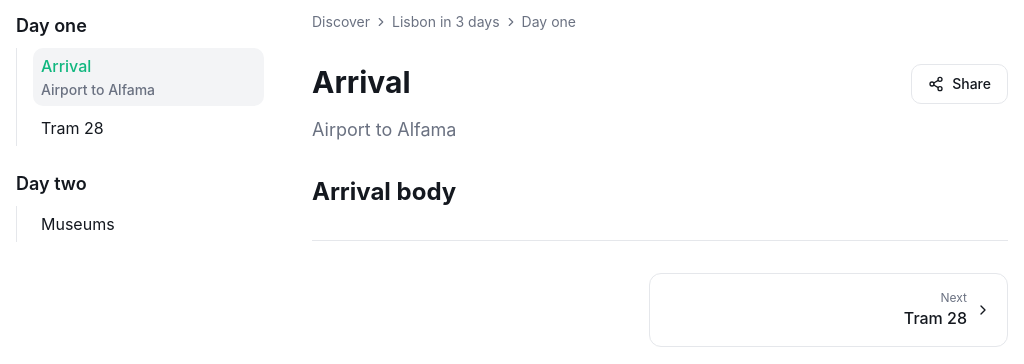
Scenario: PageView: the outline is revalidated on every page visit (same collection) › also with an immediate response: previous/next skips the unpublished page
Click the link "Museums" at (78, 224), box [41, 214, 115, 234]
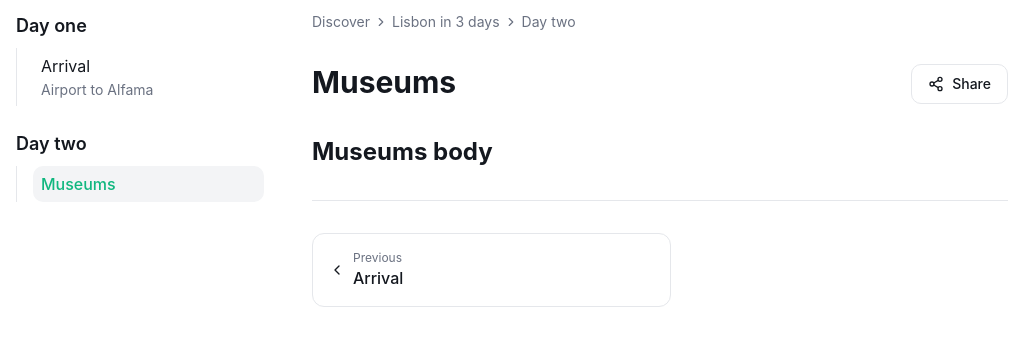
Now the link with aria-label "Previous: Arrival" is shown, box [312, 233, 671, 307]
Now the link "Tram 28" is gone
